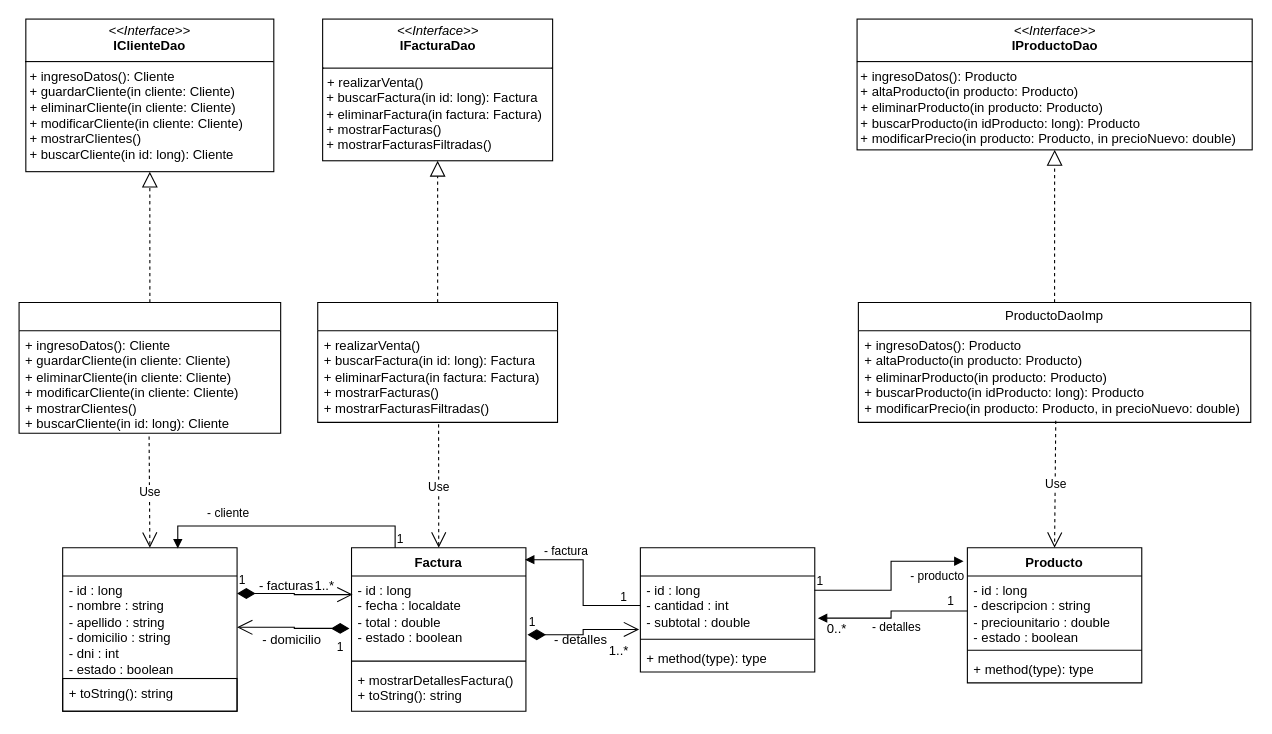
The diagram is 1272 pixels wide and 734 high, and some of its shapes have lost their labels. Here are the shapes that lost their labels. From the top down, the box of each, then its label:
(18, 301, 281, 433): ClienteDaoImp
(317, 301, 558, 422): FacturaDaoImp
(62, 547, 237, 711): Cliente
(639, 547, 815, 672): DetalleFactura
